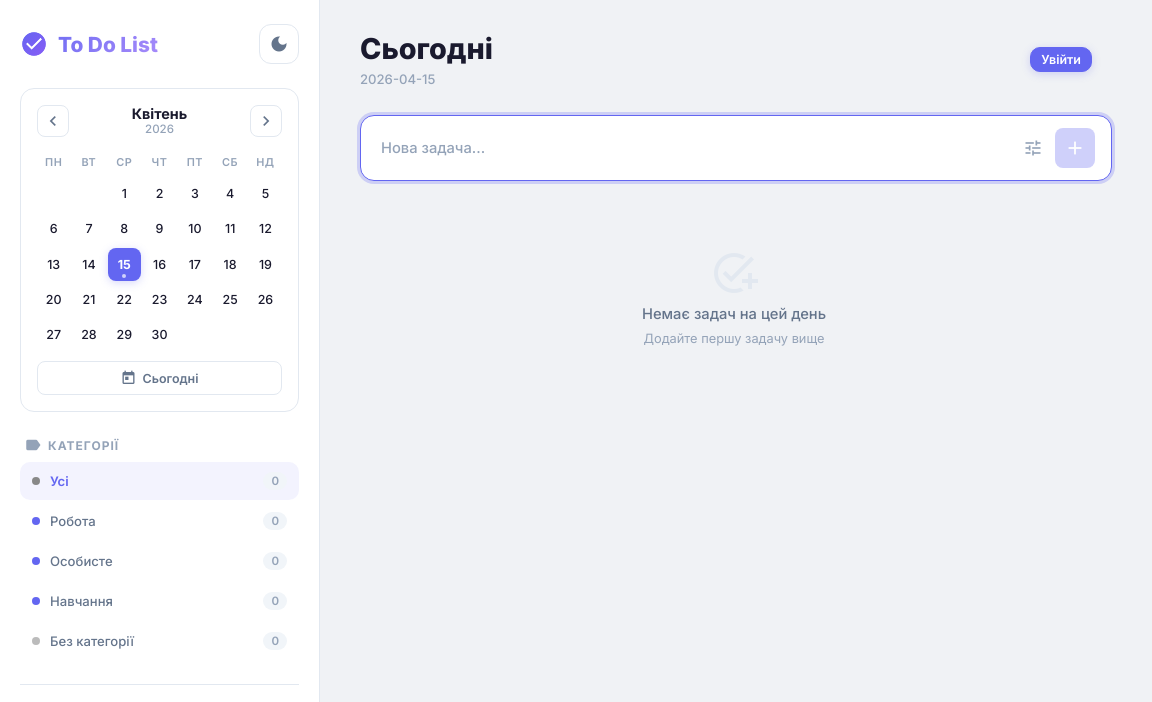
Scenario: Видалення задачі › повинно видалити задачу після натискання кнопки видалення
// Додаємо задачу
Step 1. Type "Задача для видалення" into the field with placeholder "Нова задача..." → [694, 148], box x1=377 y1=130 x2=1011 y2=164
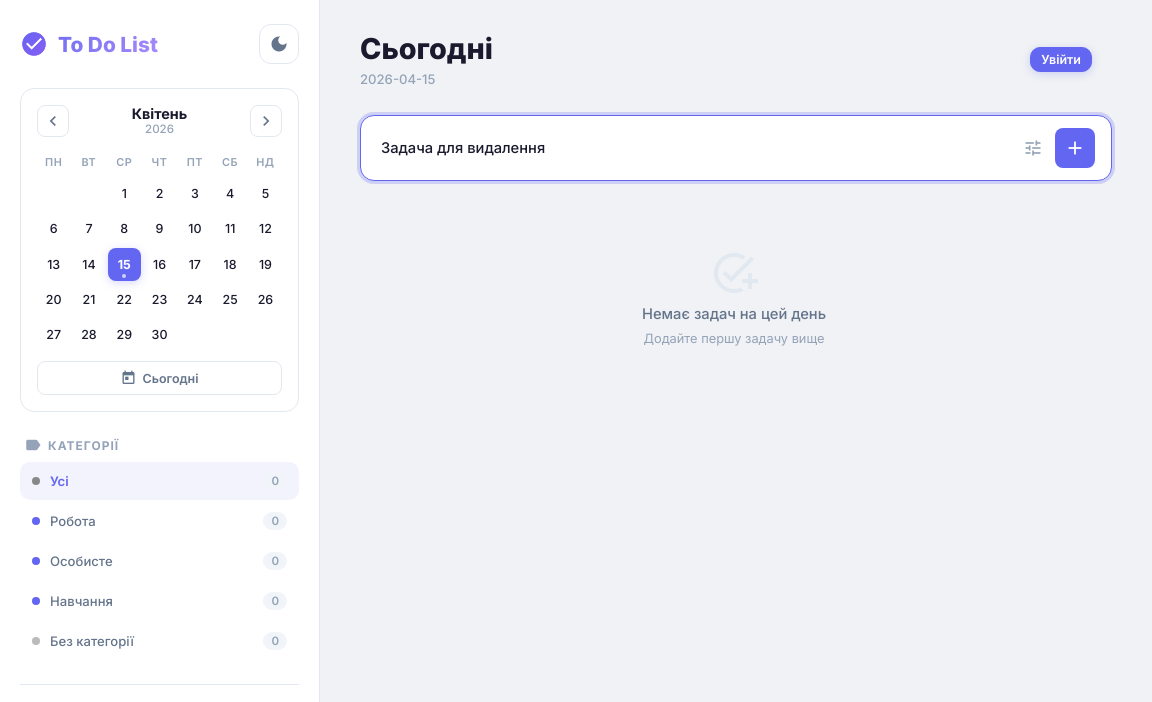
Step 2. Click the 3rd button named "add" → [1075, 148], box x1=1055 y1=128 x2=1095 y2=168
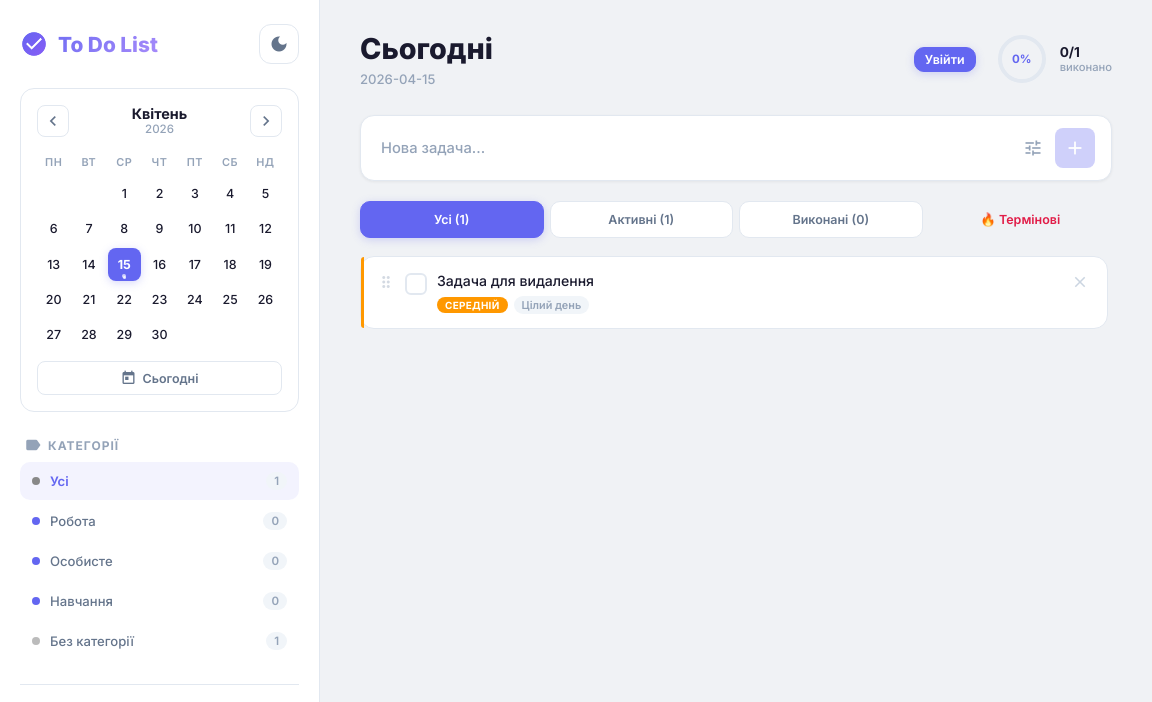
Result: the text "Задача для видалення" is shown at x1=437 y1=272 x2=594 y2=288
// Знаходимо кнопку видалення (остання кнопка у task-item)
Step 3. Click the button titled "Видалити" → [1080, 282], box x1=1069 y1=270 x2=1091 y2=292
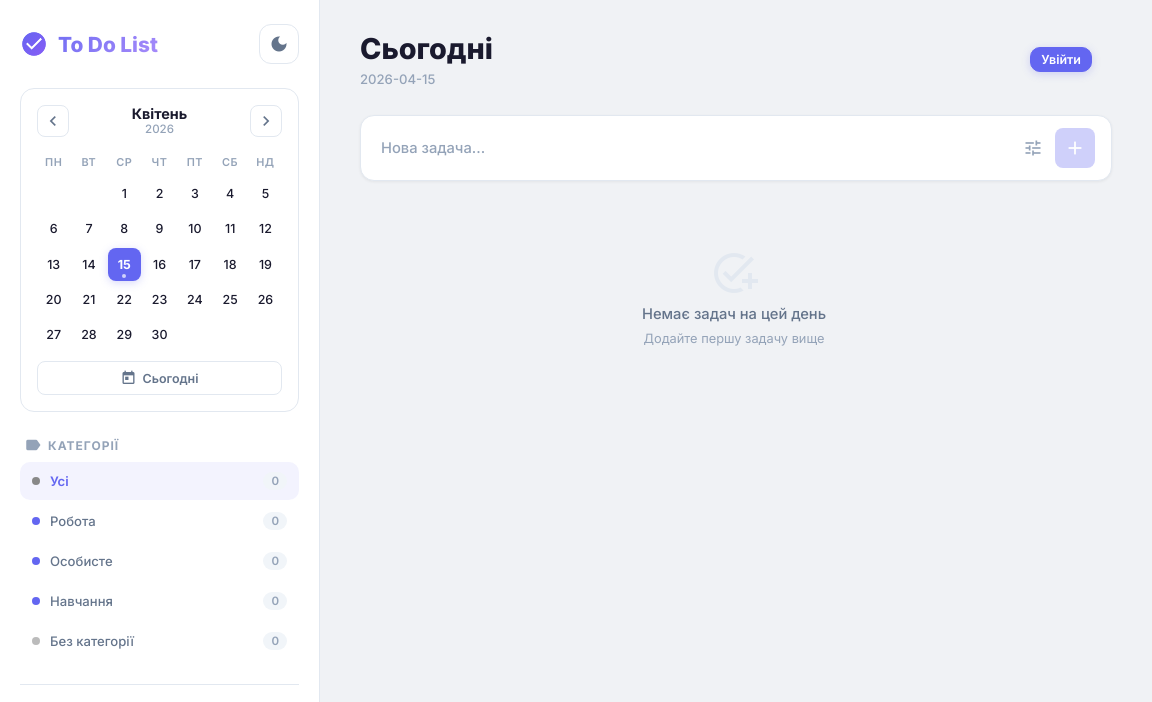
Result: the text "Задача для видалення" is gone
